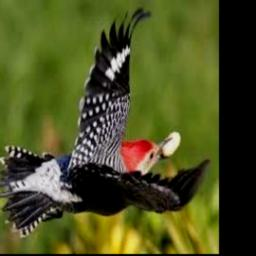Woodpecker: (0, 7, 210, 237)
